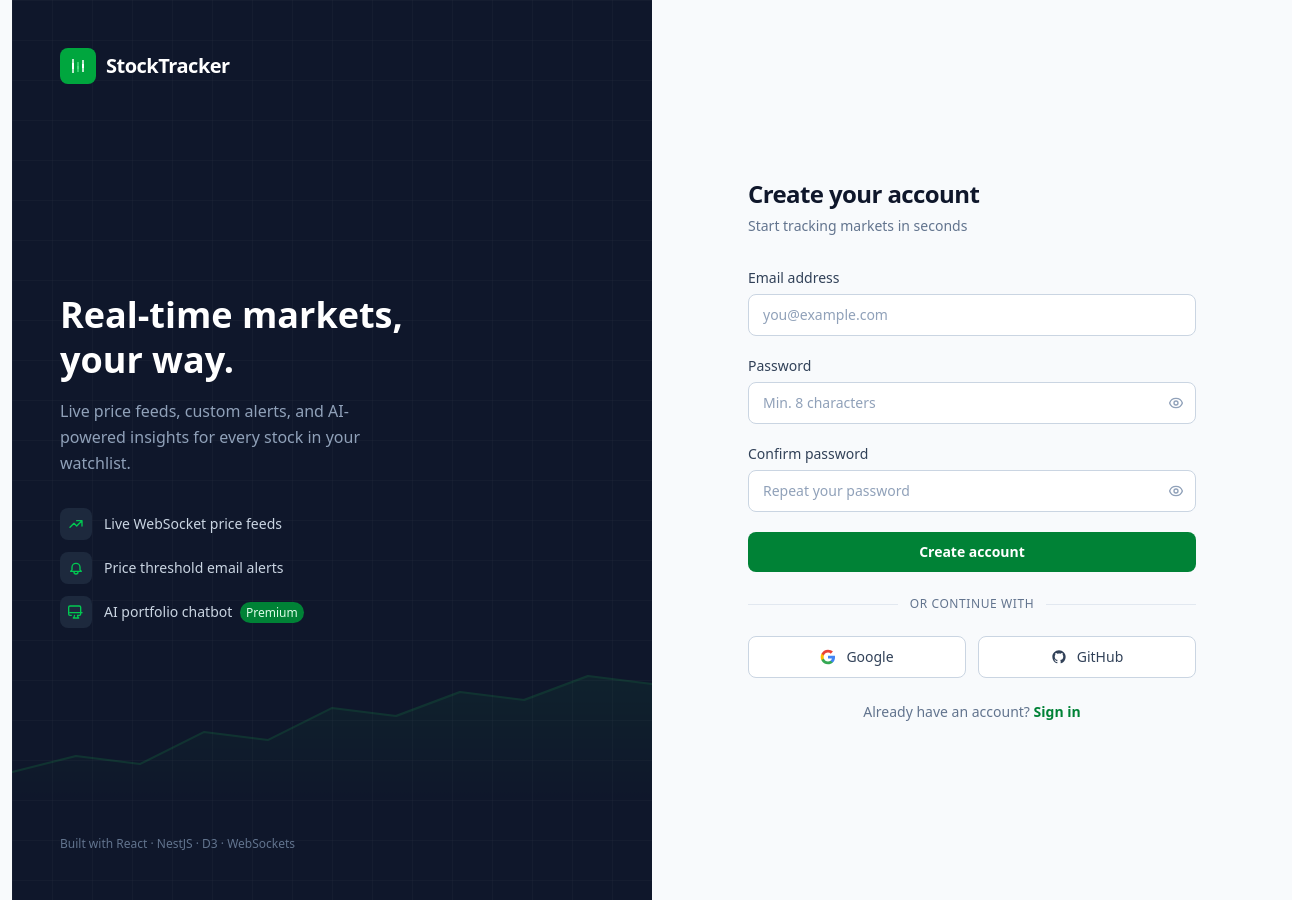
Test: RegisterPage › validation › shows password too short error
This screenshot has width=1292, height=900.
Type "user@test.com" into the field labelled "Email address" at [972, 315], box [748, 294, 1196, 336]
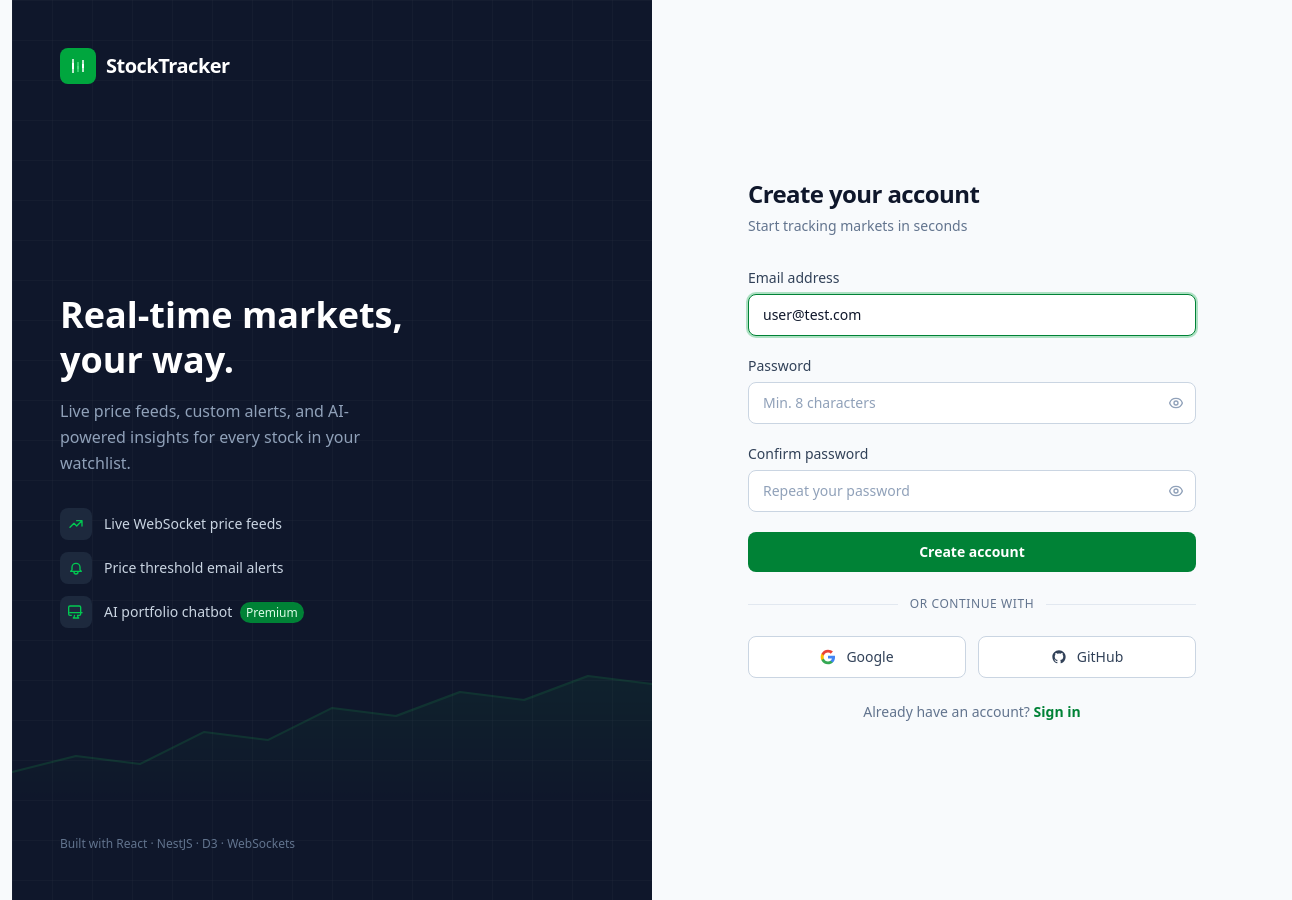
Type "short" into the password field labelled "Password" at [972, 403], box [748, 382, 1196, 424]
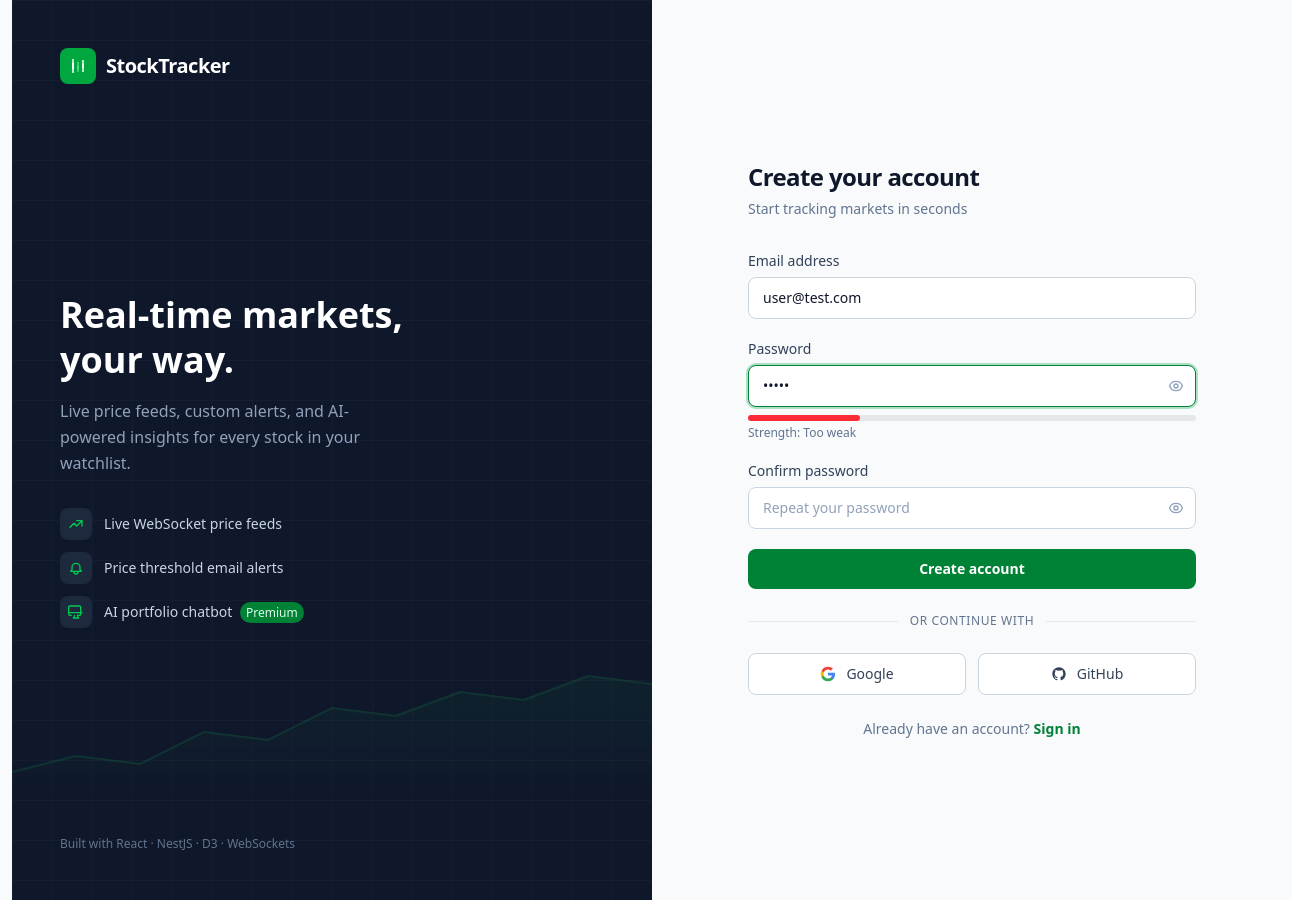
Click the button "Create account" at [972, 569], box [748, 549, 1196, 589]
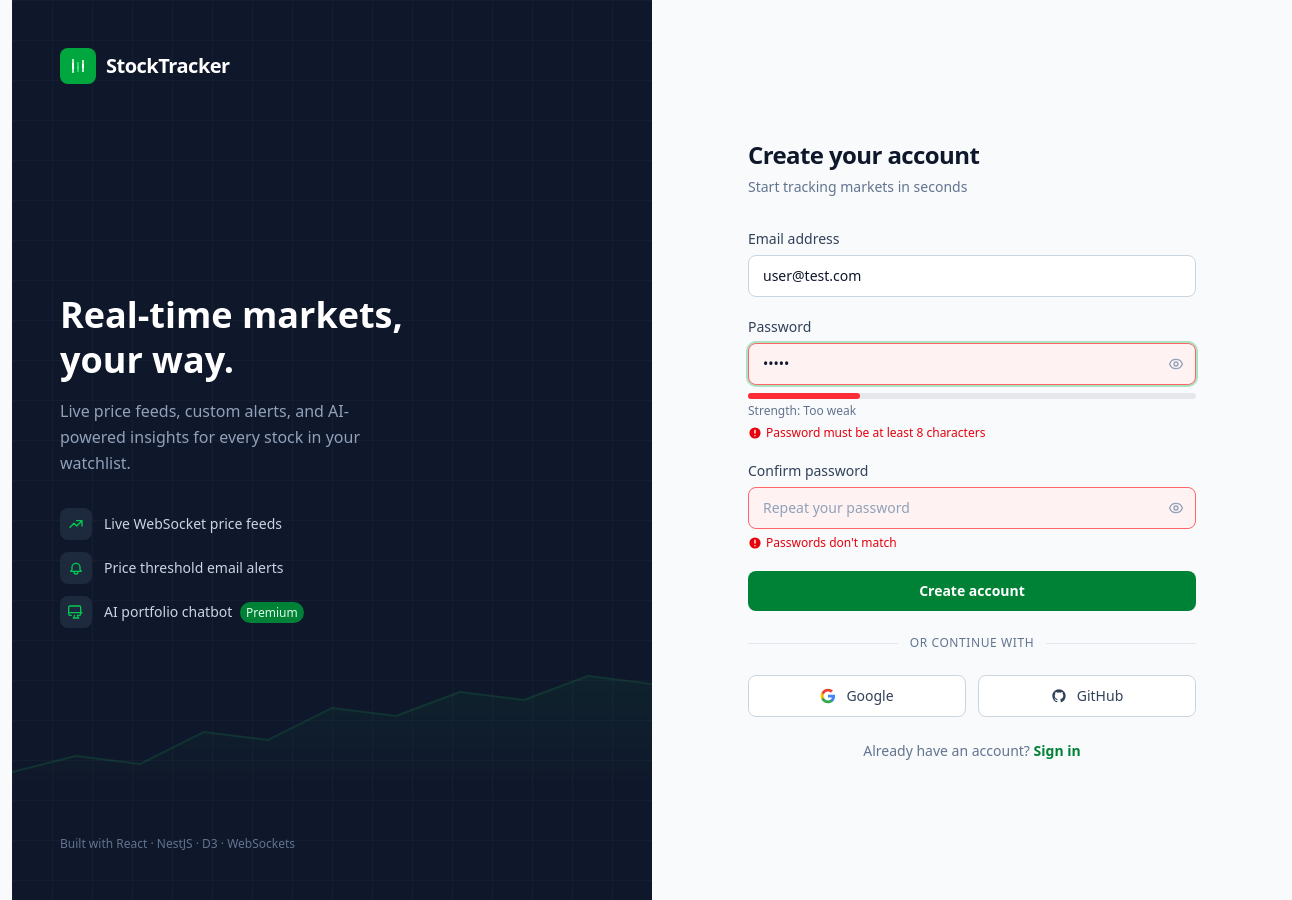
expect the text "Password must be at least 8 characters" is shown: met, box [748, 424, 985, 441]
